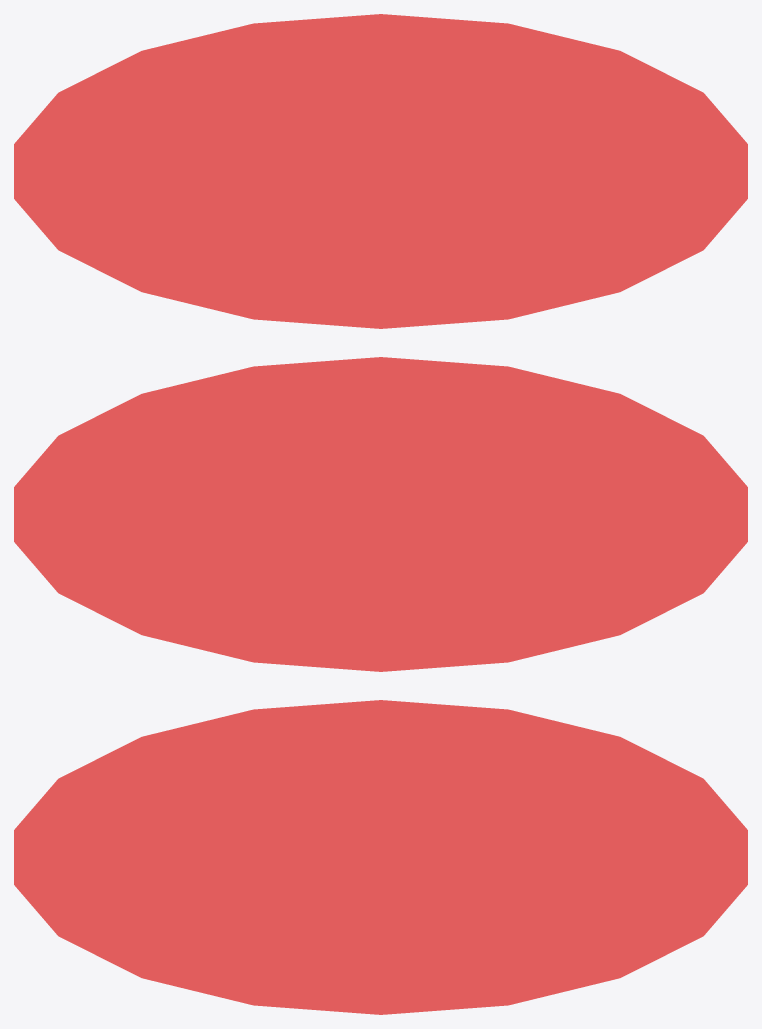
The model's file is tomato_soup.FBX.
3 renders of one model, top to bottom at view 1: azimuth 30°, elevation 25°; view 2: azimuth 150°, elevation 25°; view 3: azimuth 270°, elevation 25°, orthographic.
Visible parts, largest first — view 1: Cylinder002; view 2: Cylinder002; view 3: Cylinder002.
Boxes of the visible parts, bbox=[...] form: Cylinder002: bbox=[14, 14, 747, 328]; Cylinder002: bbox=[14, 357, 747, 671]; Cylinder002: bbox=[14, 700, 747, 1014].
Bounding box in the file's own units: 68.39 × 67.35 × 1.8.
Materials: 1 (1 with a texture image).
